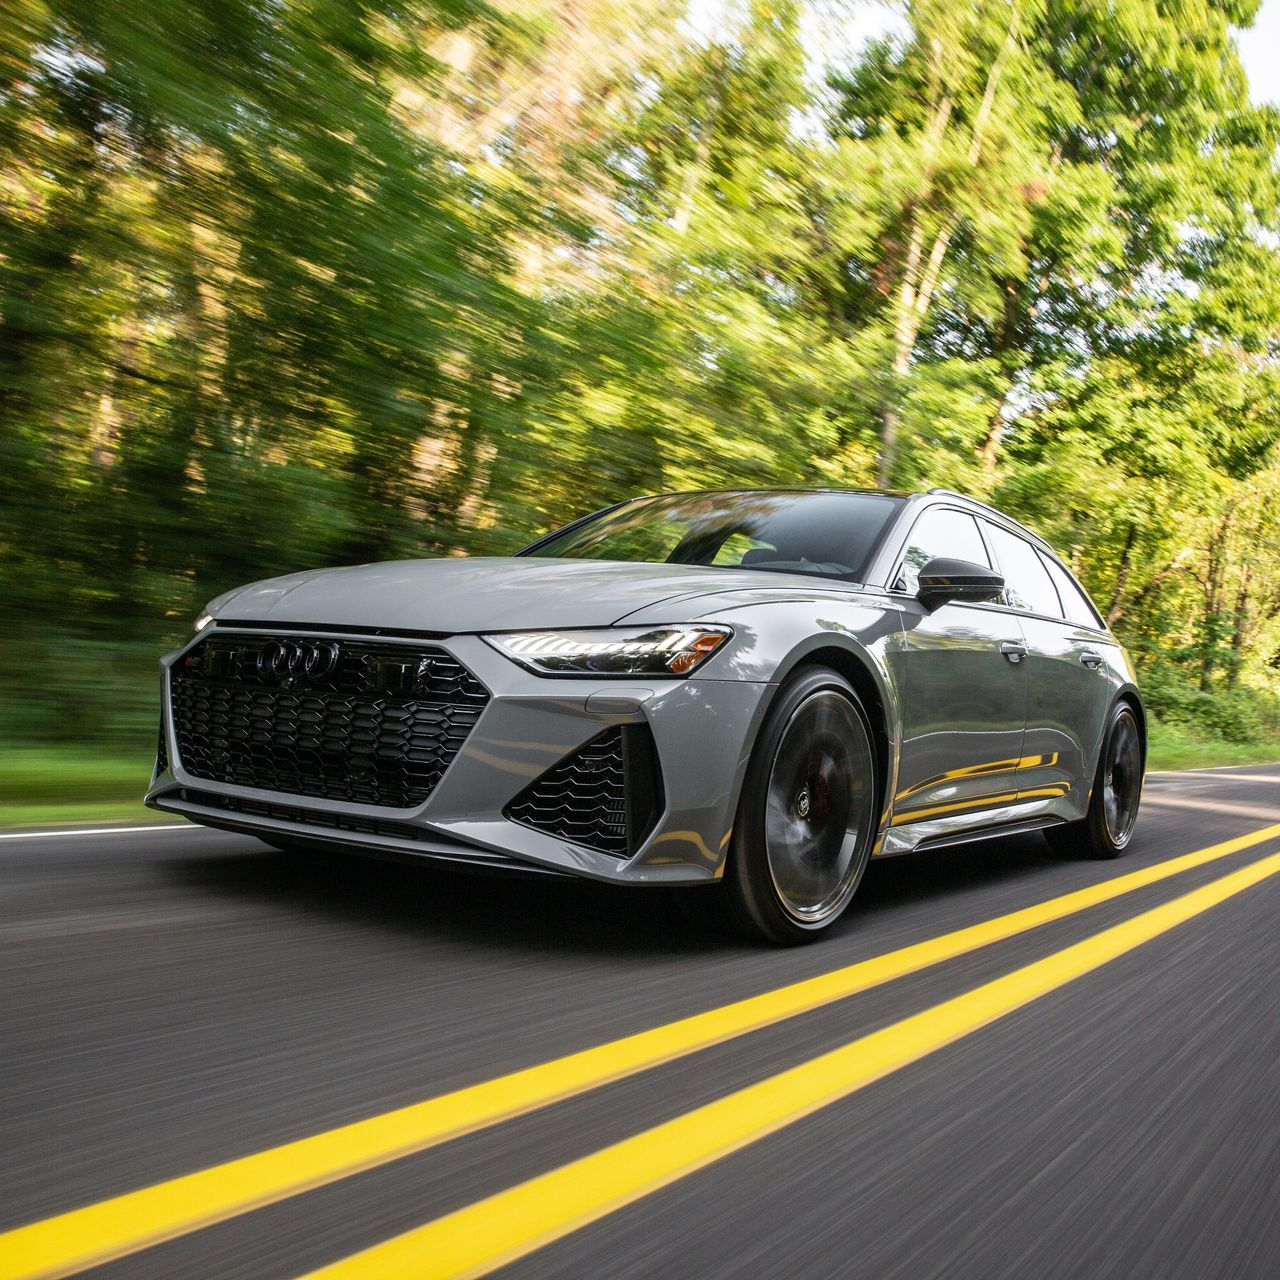car: (143, 484, 1148, 949)
